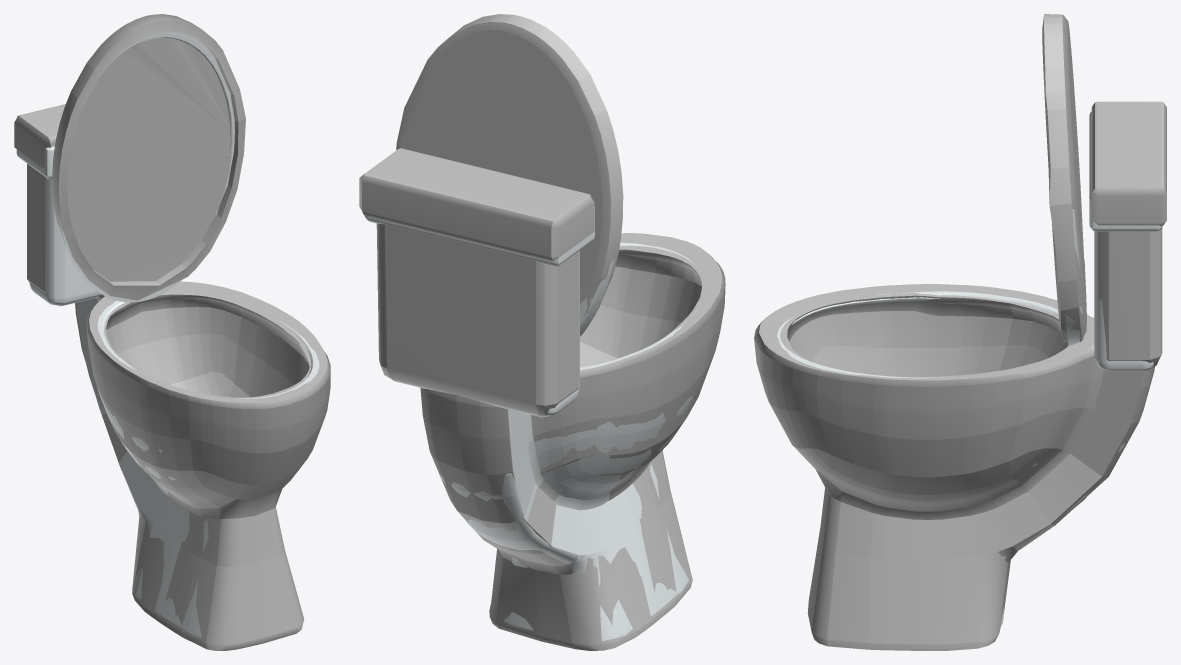
The model's file is matong.fbx.
3 views of the same model, side by side, from view 1: azimuth 30°, elevation 25°; view 2: azimuth 150°, elevation 25°; view 3: azimuth 270°, elevation 25° (orthographic). The views are drawn at different scales.
Parts seen in each view (by area): view 1: polySurface9, pCube3; view 2: polySurface9, pCube3; view 3: polySurface9, pCube3.
Boxes of the visible parts, x1,y1,x2,y2 form: polySurface9: (14, 14, 330, 650); pCube3: (16, 31, 319, 637); polySurface9: (359, 14, 725, 650); pCube3: (365, 207, 701, 641); polySurface9: (754, 14, 1166, 650); pCube3: (777, 111, 1162, 626).
Size of the model in its own units: 132 by 371 by 231.
